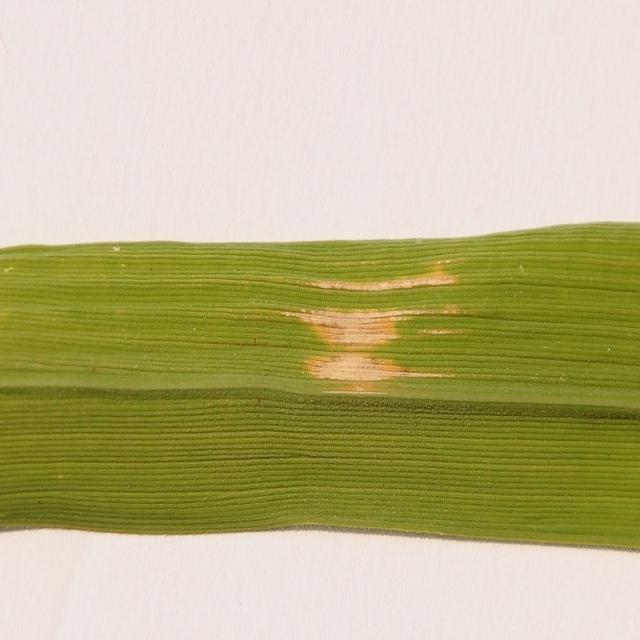leaf blight: (269, 246, 469, 397)
